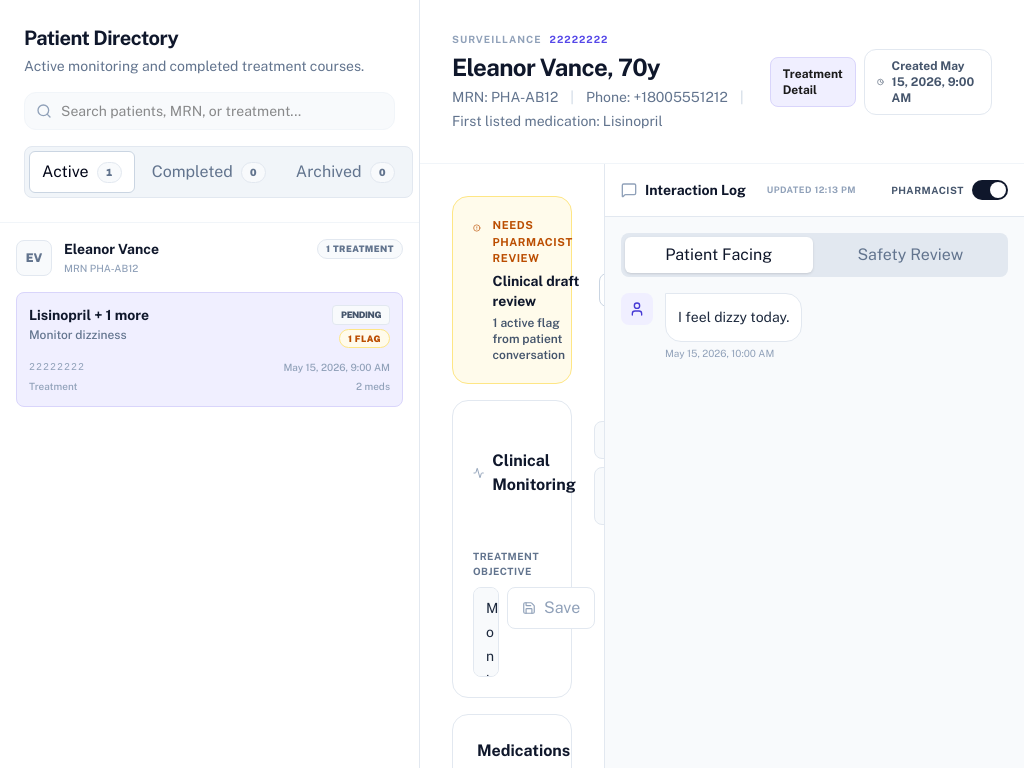
Test case: PatientManagementPage › lets the pharmacist resume AI replies from takeover mode
Expected: the text "Pharmacist" is shown, [891, 184, 964, 196]
Click the switch named "chat reply mode": {"x": 950, "y": 190} [891, 180, 1008, 200]
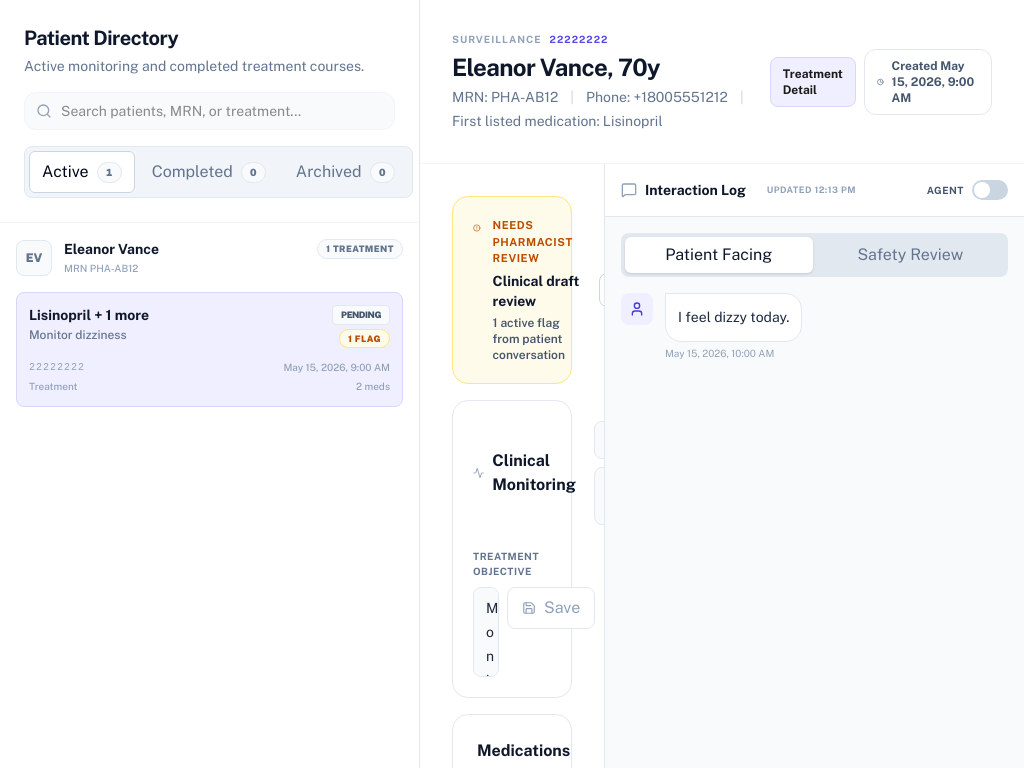
Now the text "Agent" is shown, box [927, 184, 964, 196]
